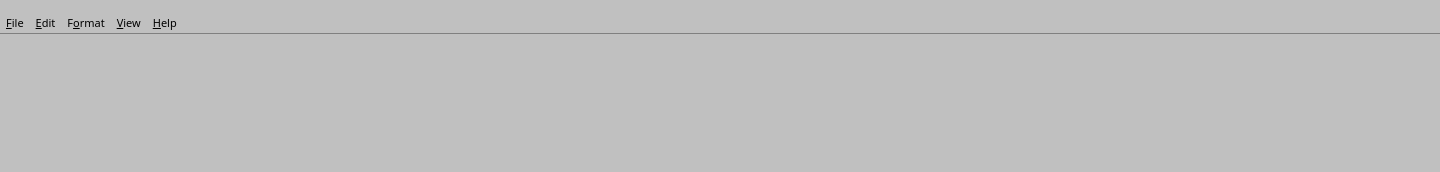
it: MenuBar — Format menu › clicking Format menu shows Font... item
Click the menu item "Format". click: coordinates (86, 22)
box: [67,15,105,30]
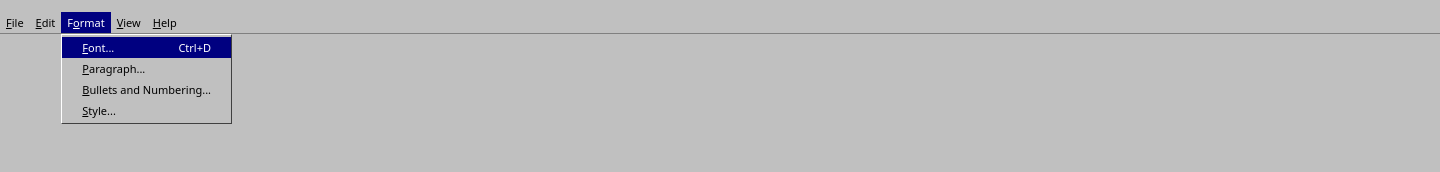
Result: the menu item "Font... Ctrl+D" is shown at [62,37,231,58]
